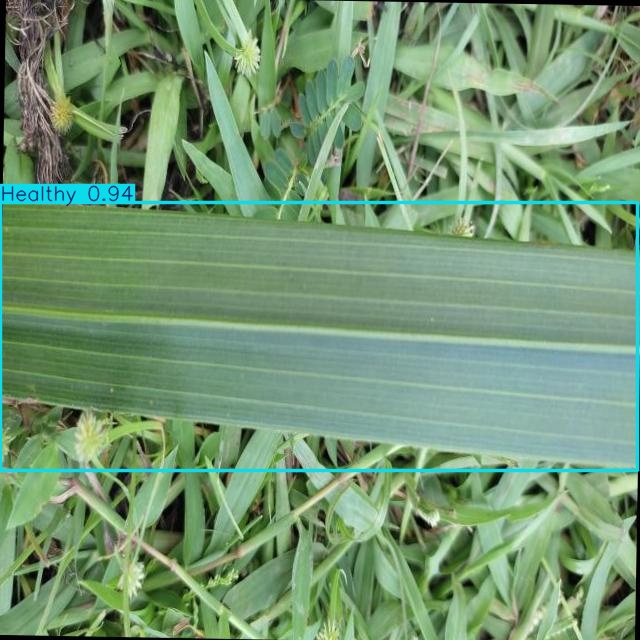Healthy: (0, 203, 638, 470)
